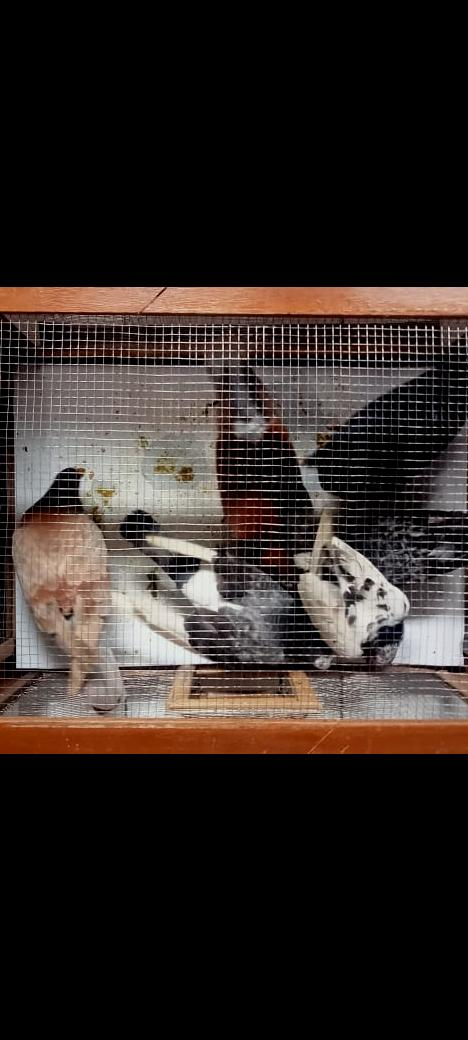Merpati: (111, 510, 335, 669), (11, 465, 127, 711), (275, 467, 411, 665), (300, 364, 468, 502), (209, 352, 301, 579), (341, 509, 468, 584)
